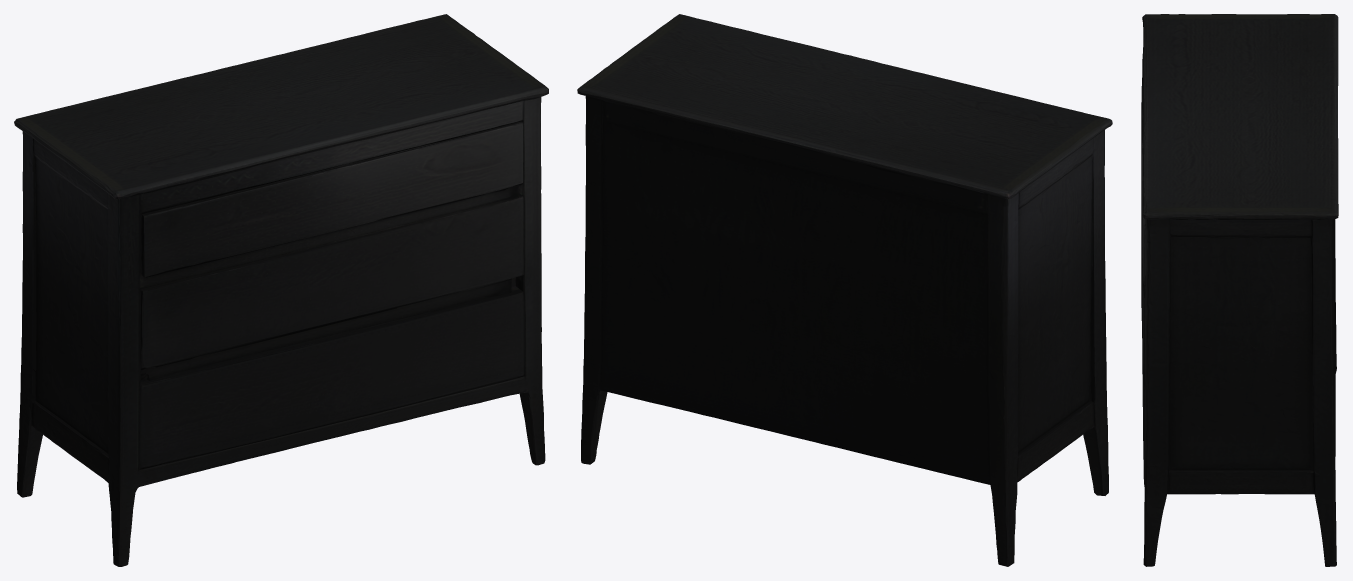
The picture shows the model from 3 angles, left to right: view 1: azimuth 30°, elevation 25°; view 2: azimuth 150°, elevation 25°; view 3: azimuth 270°, elevation 25°; orthographic projection. The views are drawn at different scales.
Visible parts, largest first — view 1: world; view 2: world; view 3: world.
Part boxes in pixels (box(x1,y1,x2,y2)): world: box(14, 14, 548, 566); world: box(577, 14, 1112, 566); world: box(1141, 14, 1338, 566).
Bounding box in the file's own units: 1 × 0.8289 × 0.4168.
Materials: 1 (1 with a texture image).
